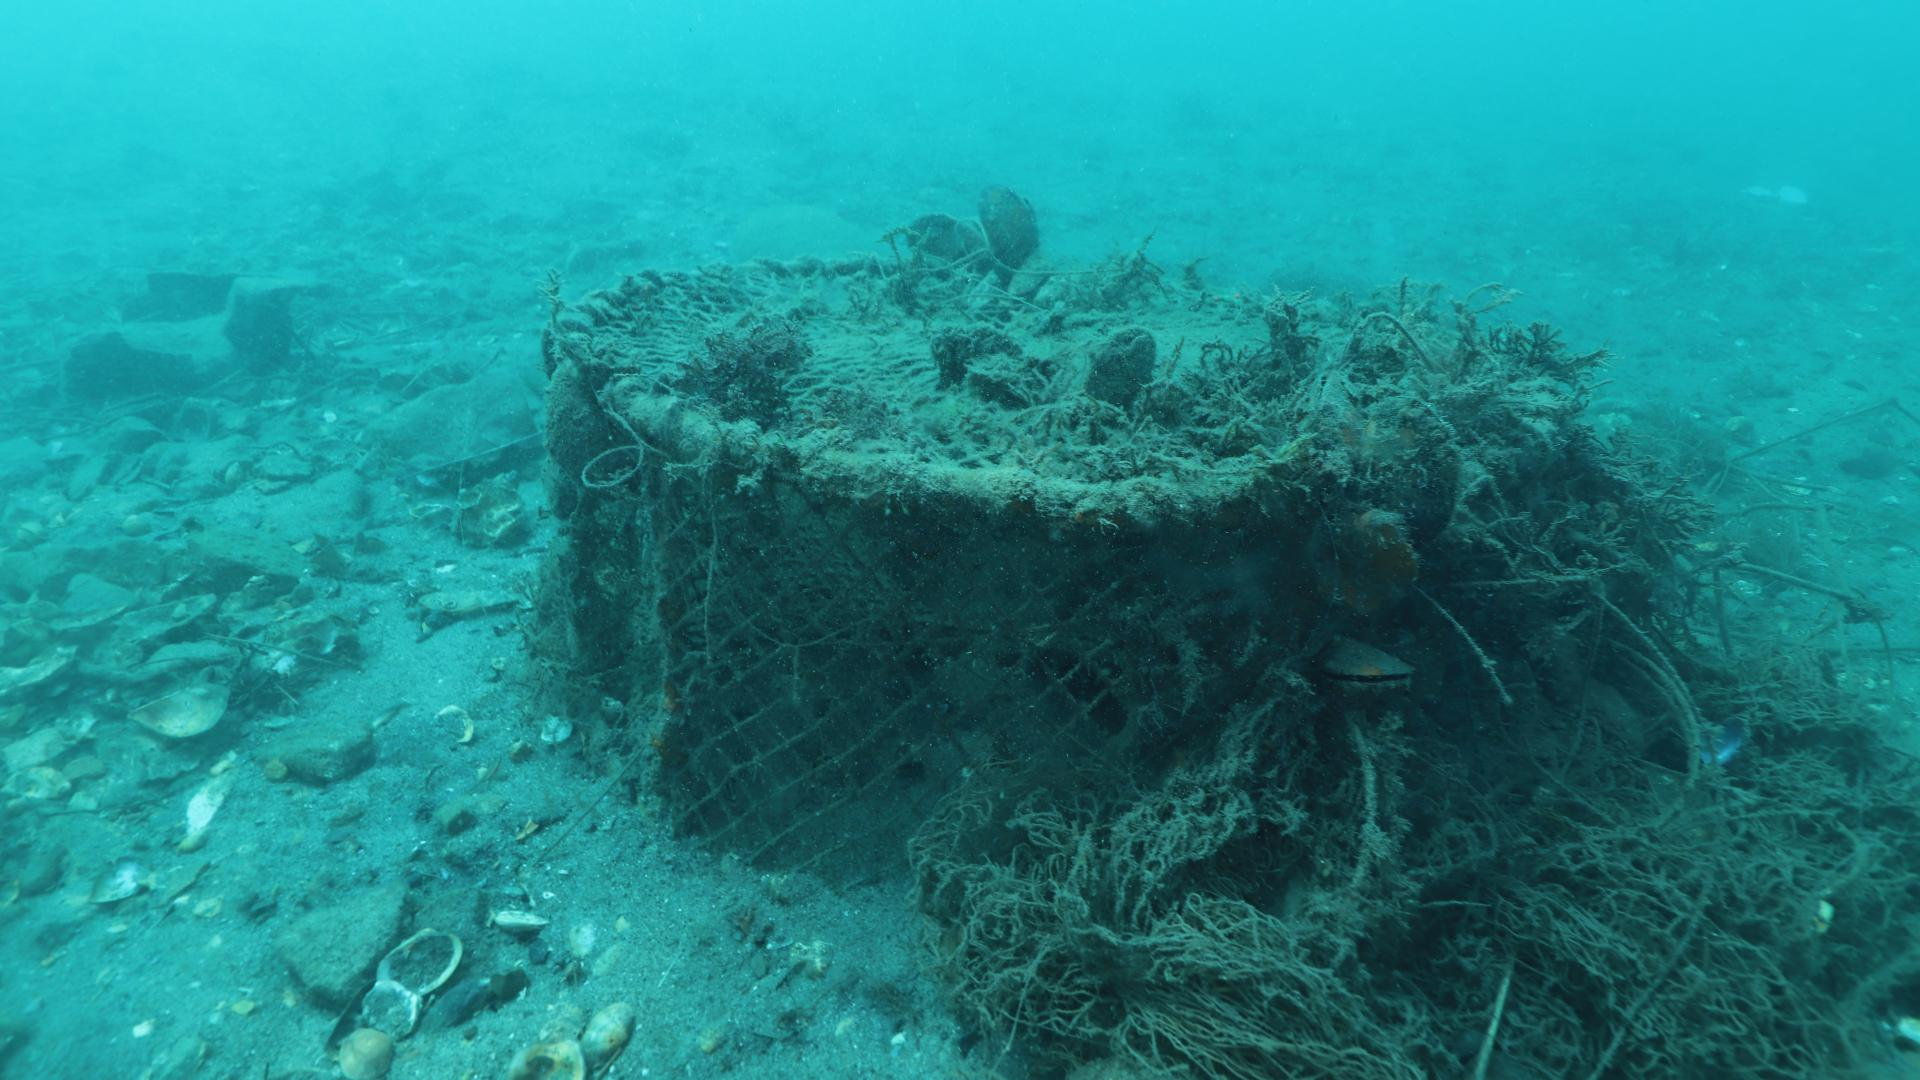circular fish trap: (537, 255, 1369, 899)
